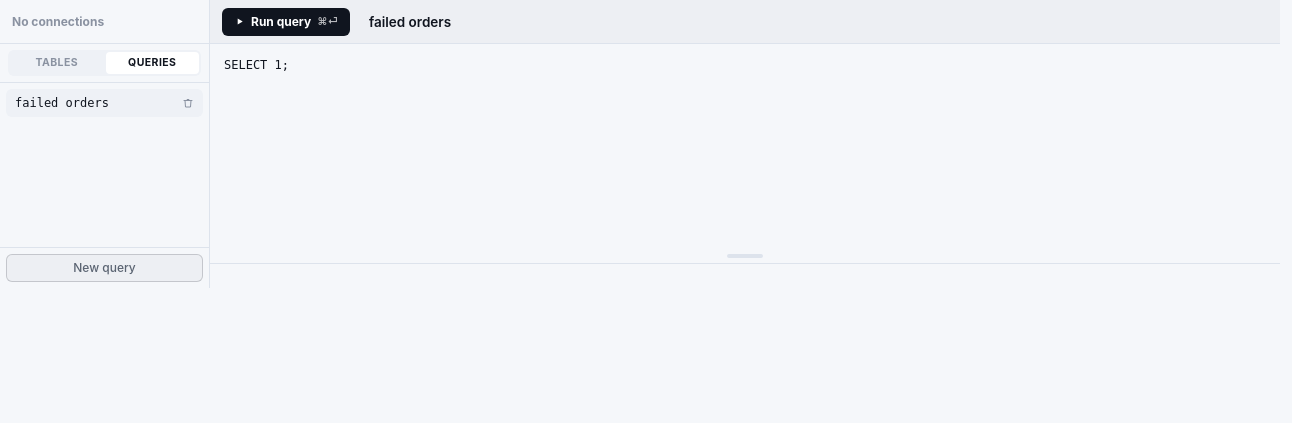
Scenario: QueryTab › clears the failed-rollback warning on the next successful run
Click the button "Run query ⌘⏎".
click(286, 22)  # box [222, 8, 350, 36]
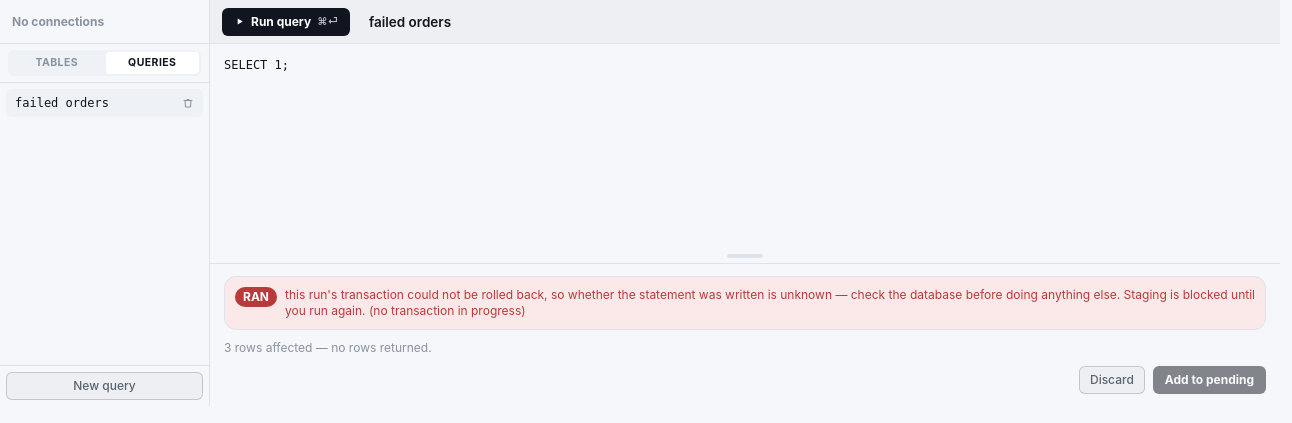
Now the text "could not be rolled back" is shown, box [285, 287, 1255, 318]
Click the button "Run query ⌘⏎".
click(286, 22)  # box [222, 8, 350, 36]
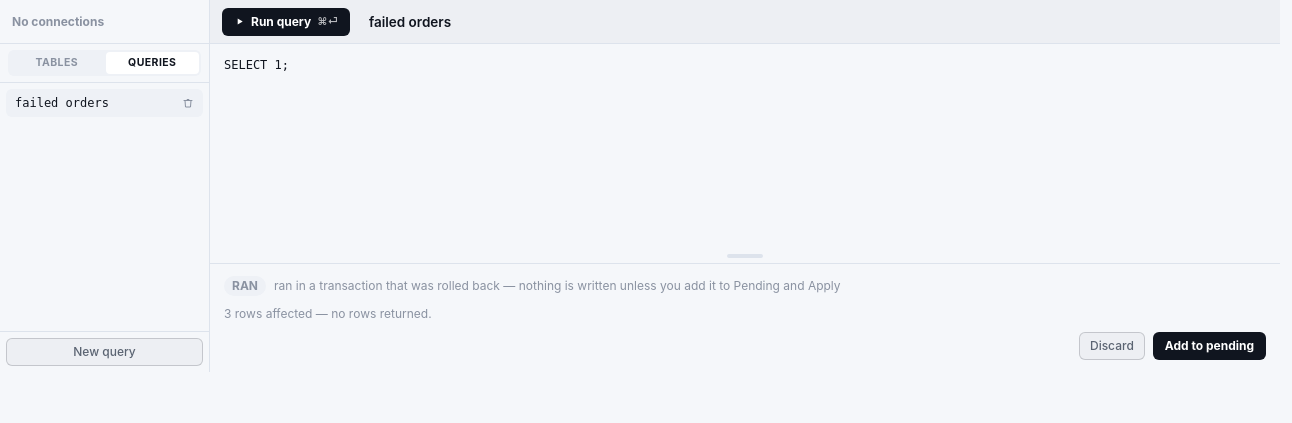
Now the text "rolled back — nothing is written" is shown, box [274, 278, 841, 293]
Now the text "could not be rolled back" is gone
Now the button "Add to pending" is enabled, box [1153, 332, 1266, 360]
